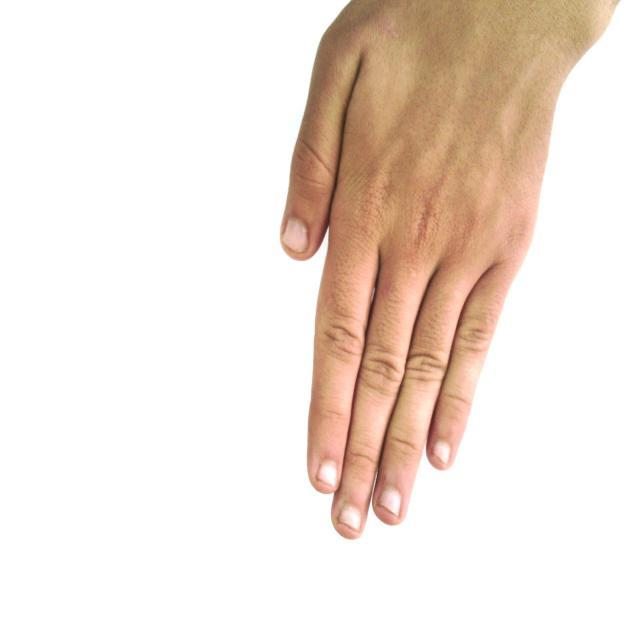Fingernail: (284, 218, 309, 252), (378, 486, 402, 516), (339, 505, 360, 531), (317, 460, 337, 486), (432, 440, 450, 464)
